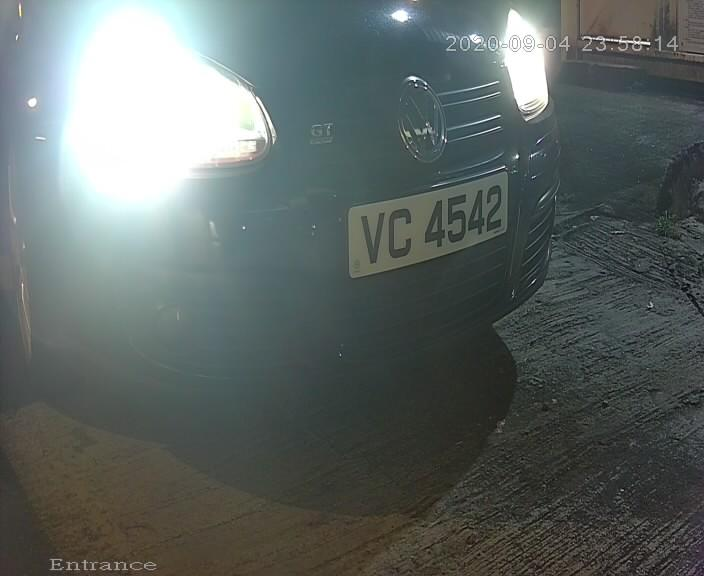License Plate: (316, 155, 529, 291)
